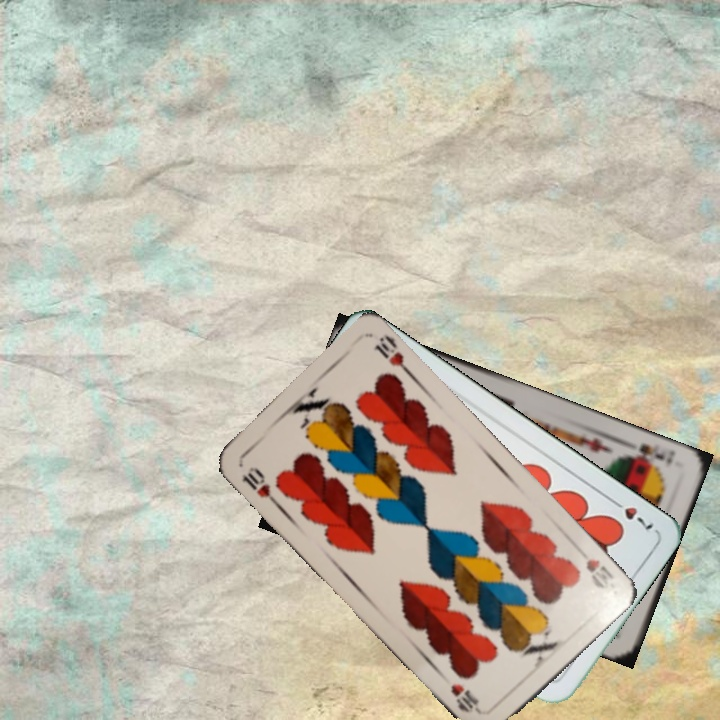H10: (237, 462, 282, 509), (581, 555, 617, 592)
H7: (605, 494, 657, 533)
SK: (622, 439, 679, 471)
